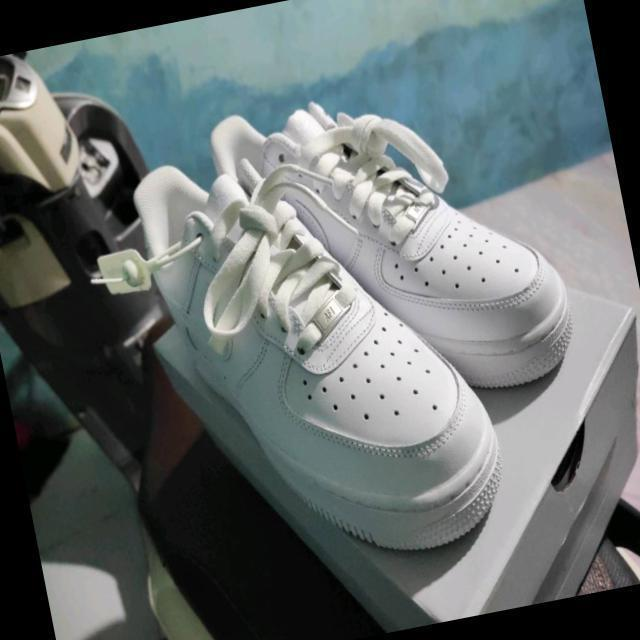nike original air force: (114, 111, 520, 596), (199, 52, 603, 434)
